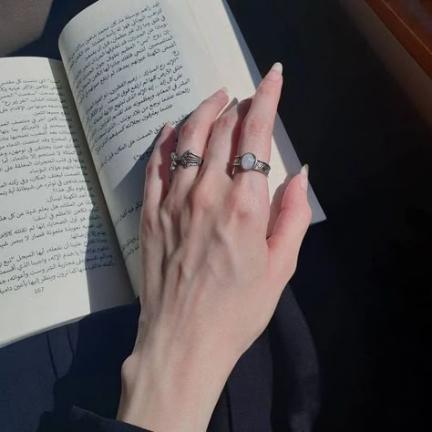Nail: (268, 62, 282, 81), (300, 165, 308, 193), (214, 86, 228, 97), (161, 122, 171, 135)
